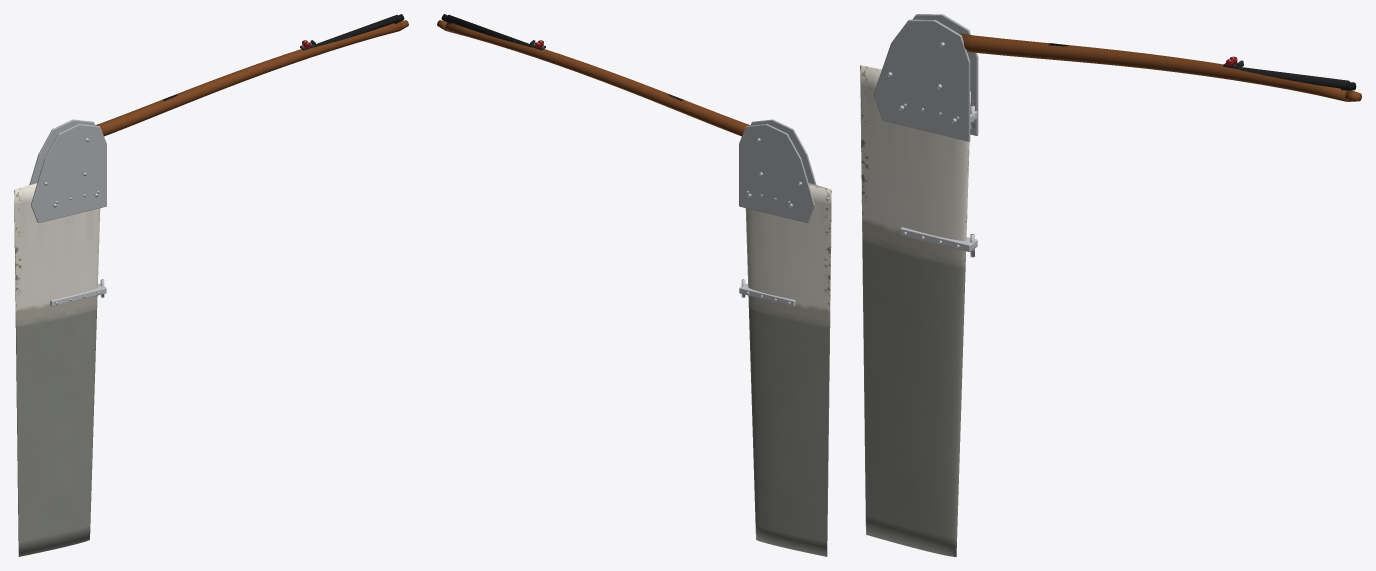
Rendered from SM_J22H_Rudder.fbx.
3 renders of one model, left to right at view 1: azimuth 30°, elevation 25°; view 2: azimuth 150°, elevation 25°; view 3: azimuth 330°, elevation 25°, orthographic. The views are drawn at different scales.
Visible parts, largest first — view 1: SM_J22H_Rudder; view 2: SM_J22H_Rudder; view 3: SM_J22H_Rudder.
Boxes of the visible parts, x1,y1,x2,y2 form: SM_J22H_Rudder: (14,14,408,556); SM_J22H_Rudder: (437,14,831,556); SM_J22H_Rudder: (860,14,1361,556).
Size of the model in its own units: 0.072 by 1.71 by 1.87.
